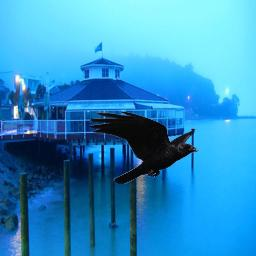Crow: (88, 110, 200, 184)
